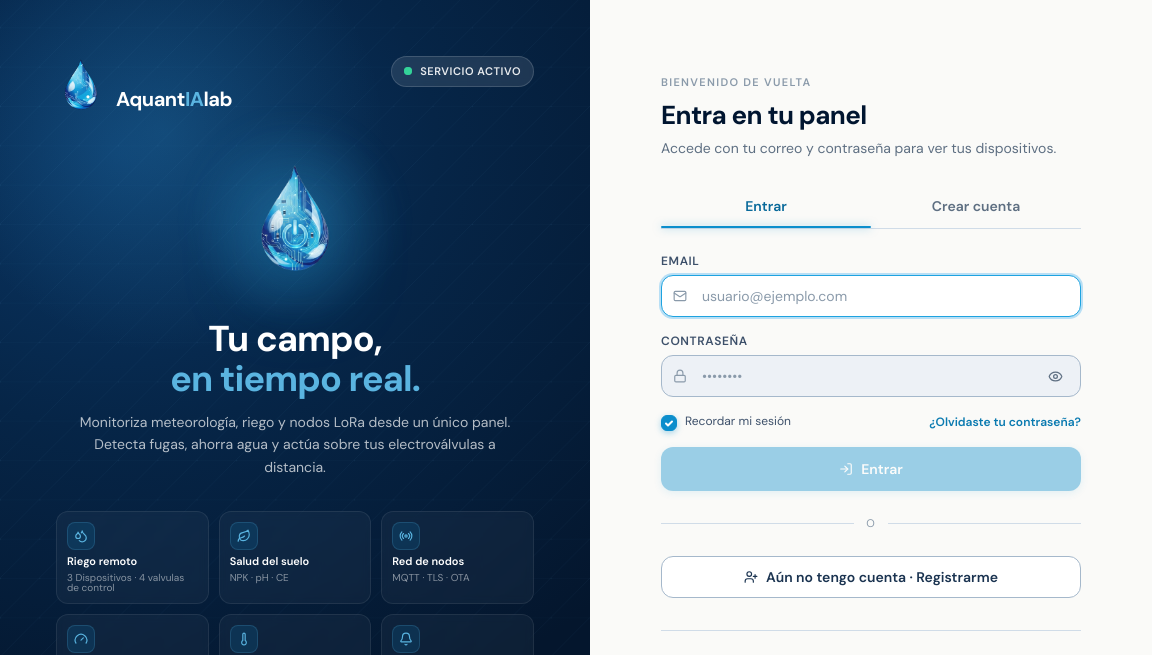
Test: LoginView › clears error when switching tabs
The width and height of the screenshot is (1152, 655).
Type "a@b.com" into the field with placeholder "usuario@ejemplo.com" at (871, 296), box x1=661 y1=275 x2=1081 y2=317
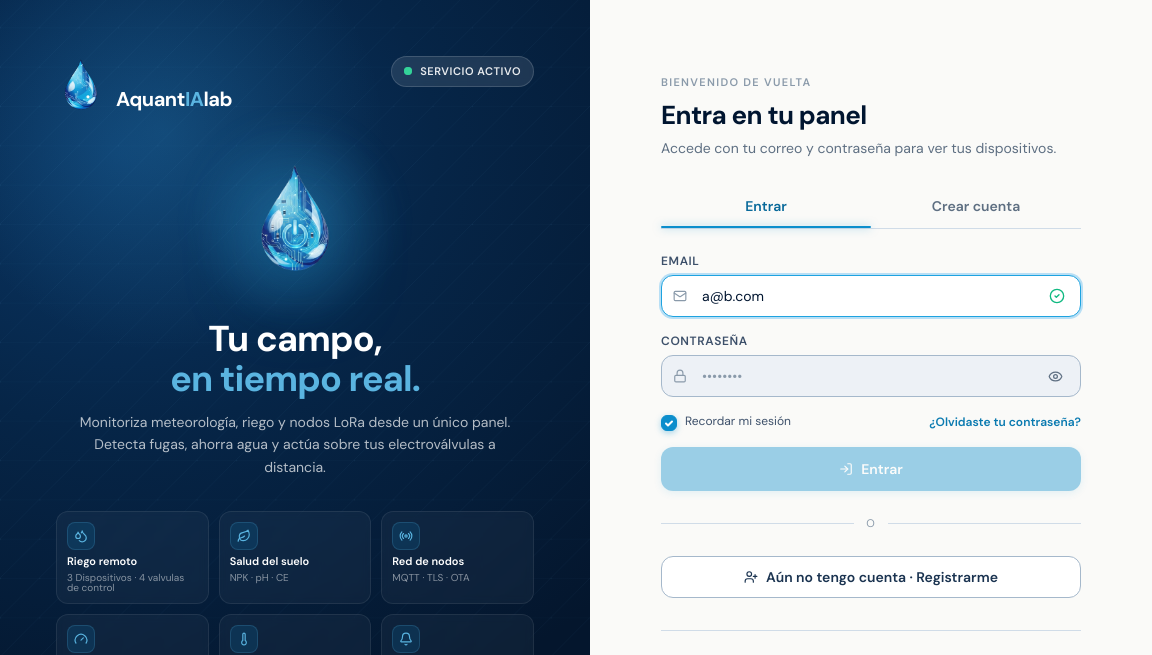
Type "pass" into the password field with placeholder "••••••••" at (871, 376), box x1=661 y1=355 x2=1081 y2=397
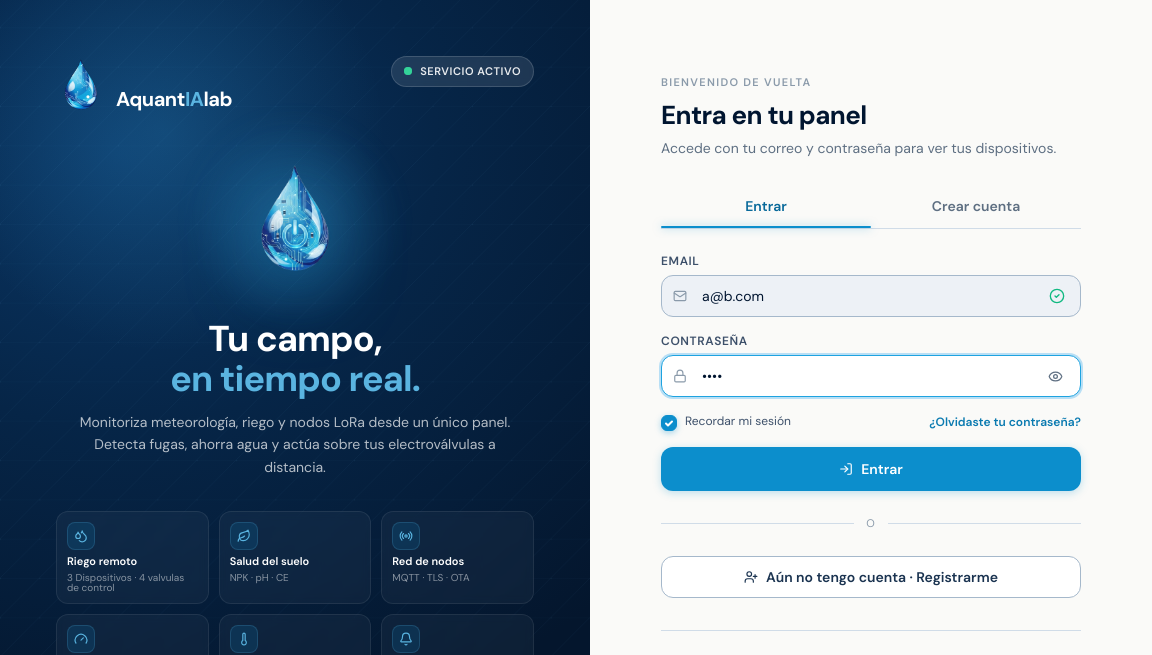
Click the button "Entrar" below "¿Olvidaste tu contraseña?" at (871, 469), box x1=661 y1=447 x2=1081 y2=491
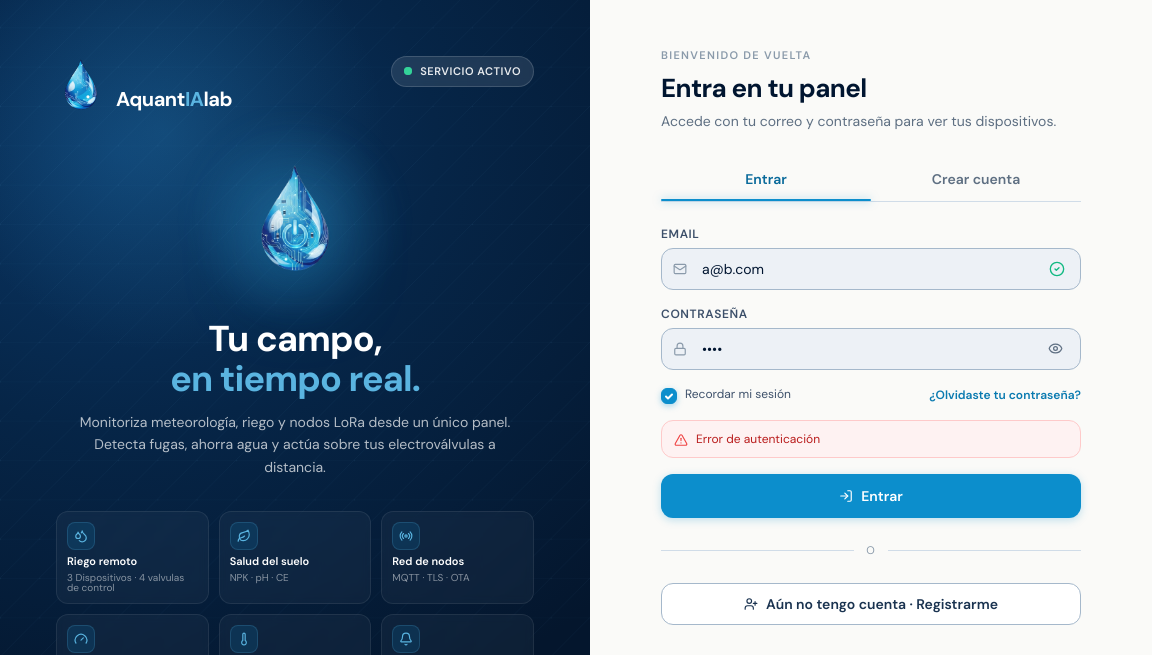
Result: the text "Error de autenticación" is shown at x1=696 y1=431 x2=820 y2=447
Click the button "Crear cuenta" at (976, 179), box x1=871 y1=157 x2=1081 y2=201
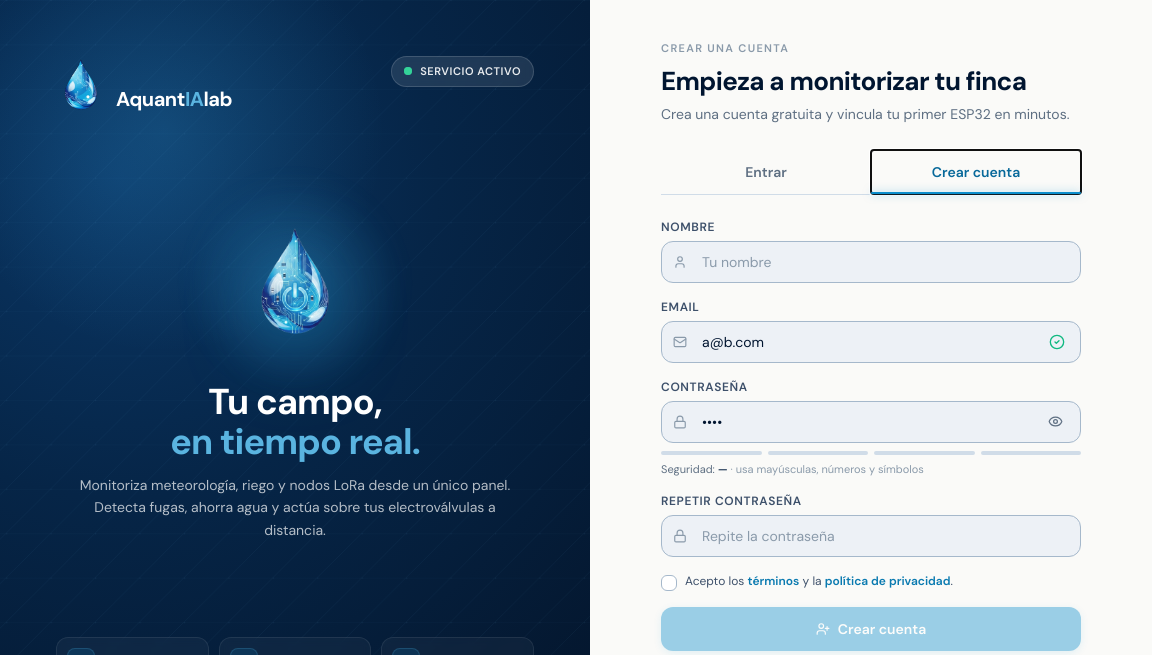
Result: the text "Error de autenticación" is gone
